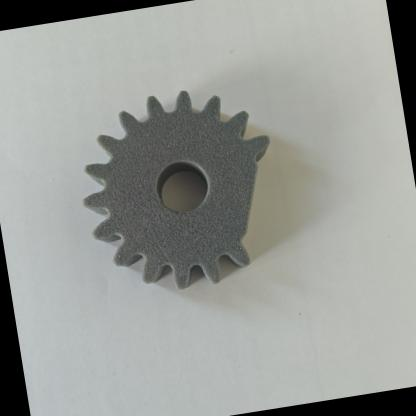defect: (200, 128, 326, 274)
gear: (58, 61, 330, 317)
